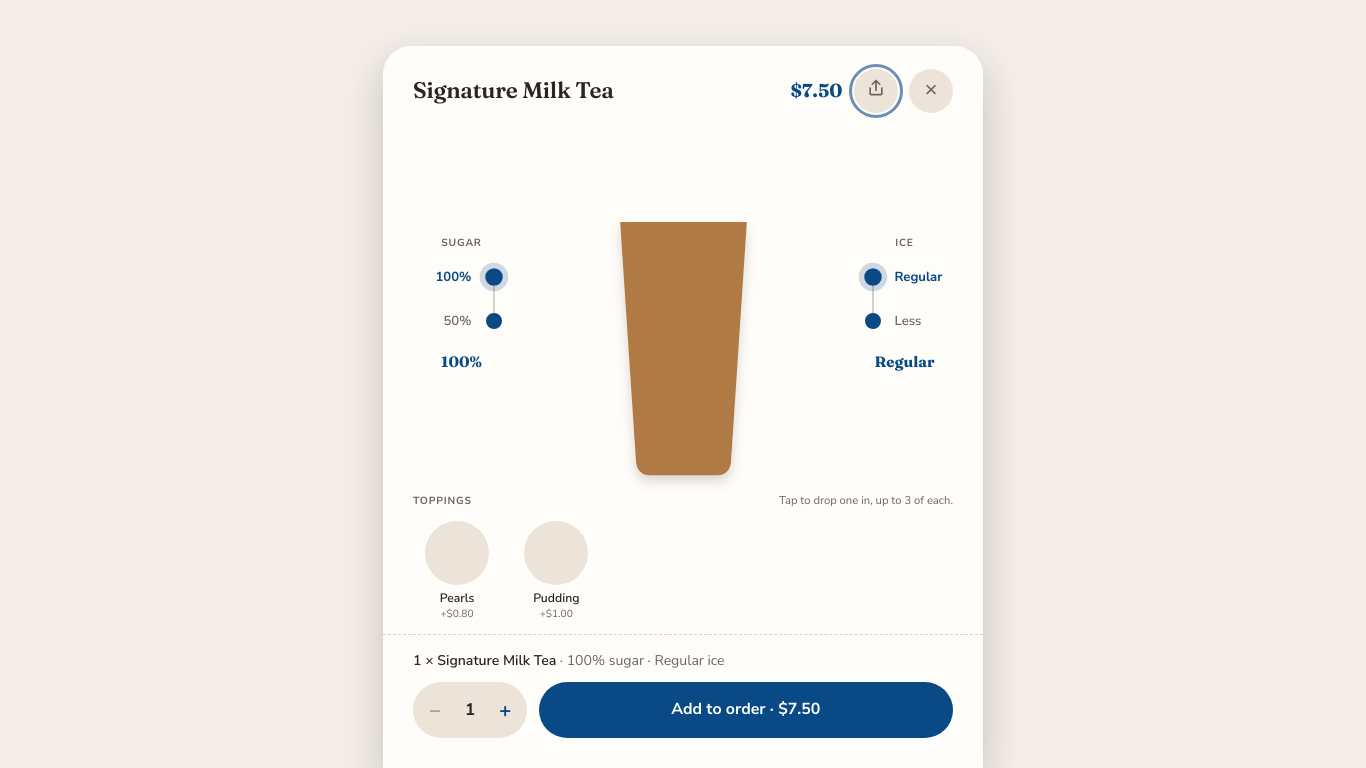
Test: CustomiseDrinkDialog › updates the total as toppings and quantity change
This screenshot has width=1366, height=768.
Click the button with aria-label "Add Pearls".
click(457, 570)  # box x1=413 y1=517 x2=501 y2=622
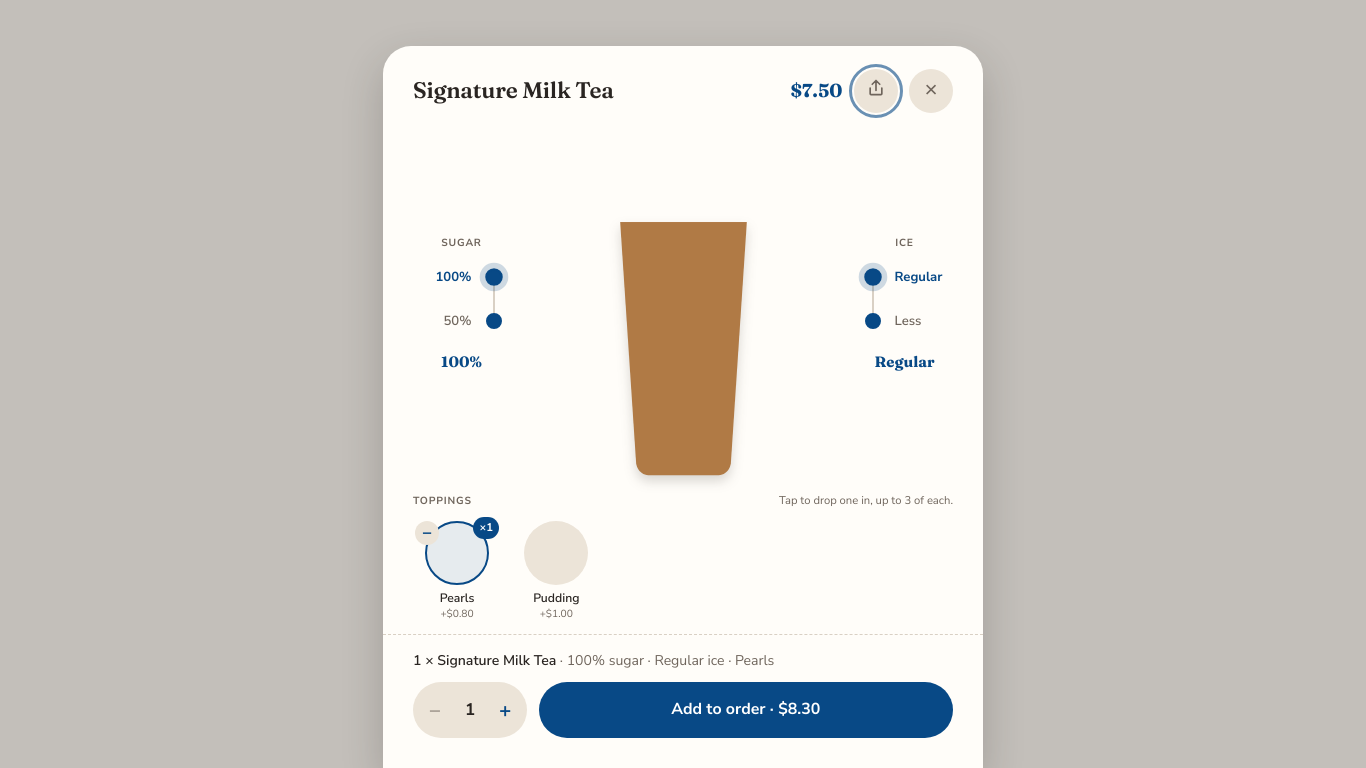
Expected: the button "Add to order · $8.30" is shown, x1=538 y1=682 x2=953 y2=738
Click the button "Pudding +$1.00".
click(556, 570)  # box x1=512 y1=517 x2=600 y2=622
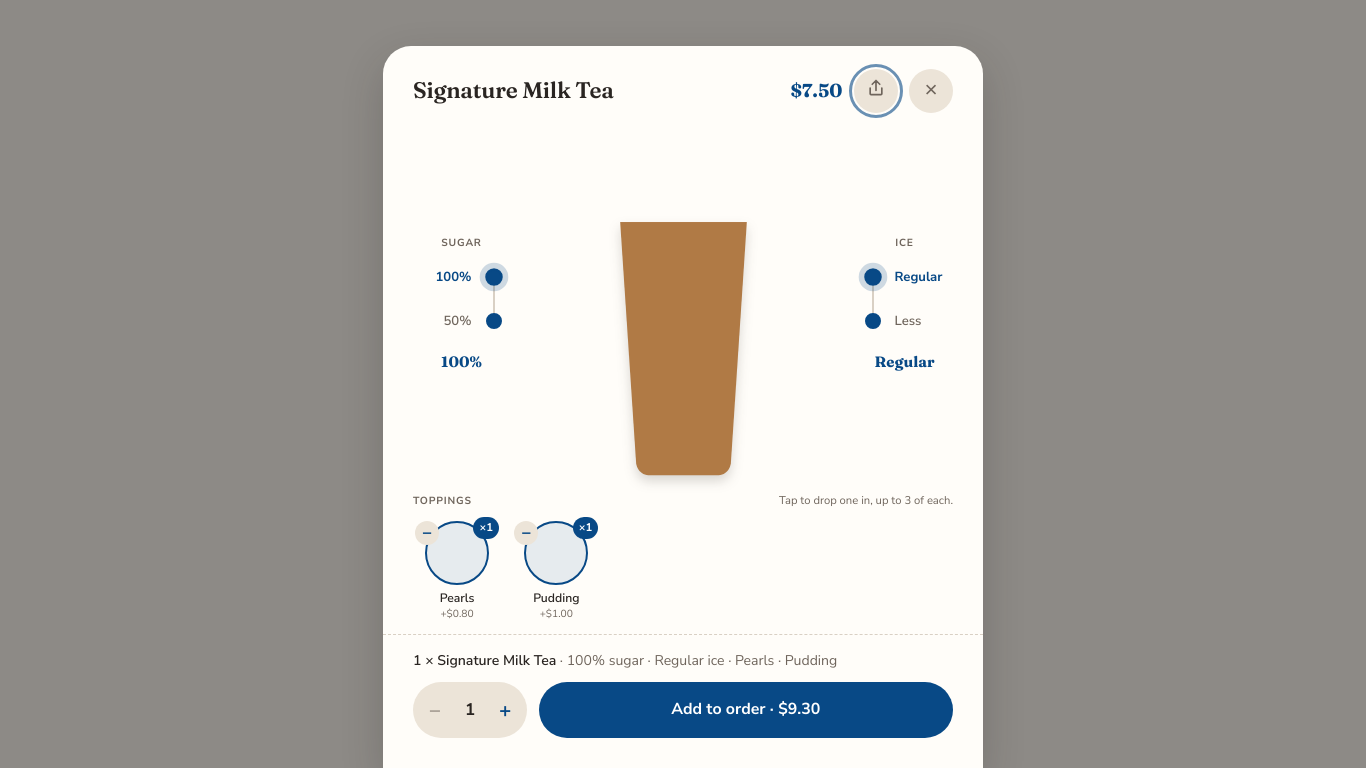
Expected: the button "Add to order · $9.30" is shown, x1=538 y1=682 x2=953 y2=738
Click the button named "One more".
click(505, 710)  # box x1=483 y1=688 x2=527 y2=732
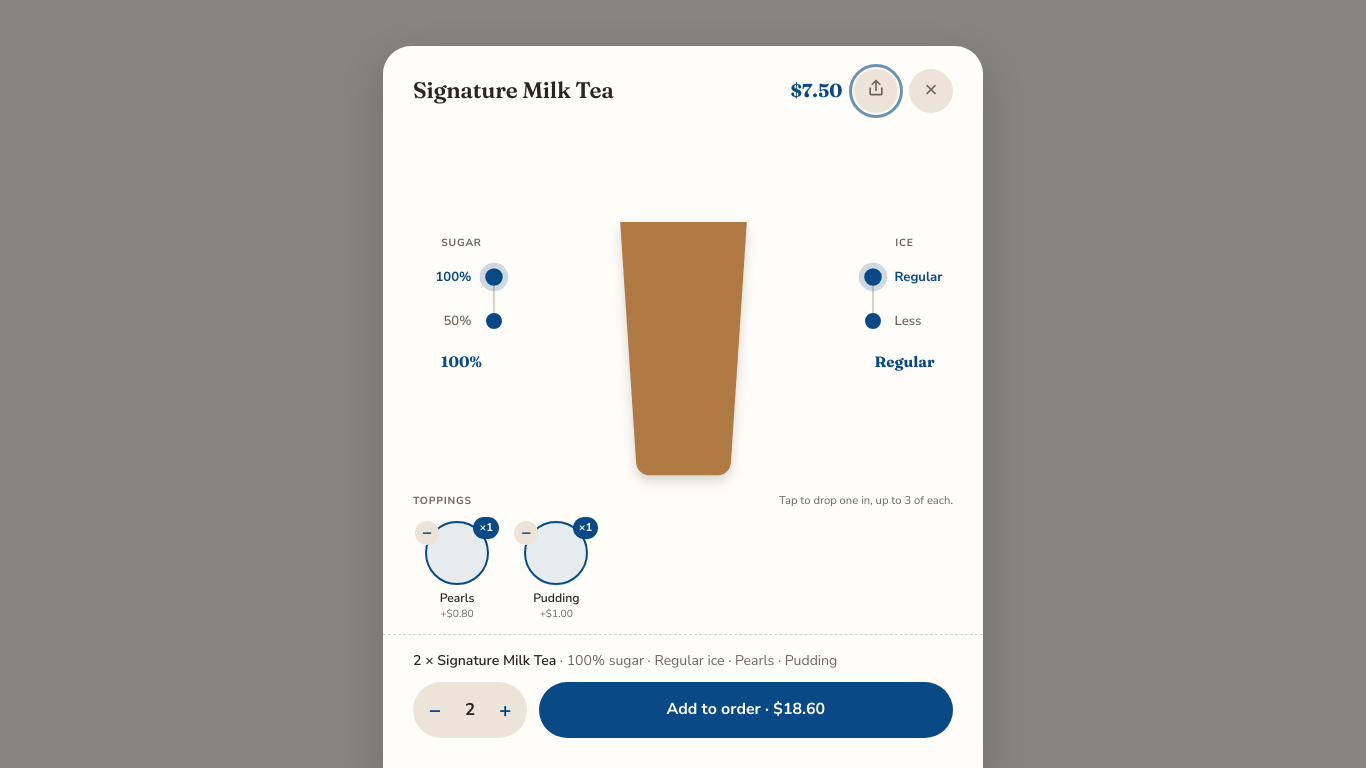
Expected: the button "Add to order · $18.60" is shown, x1=538 y1=682 x2=953 y2=738
